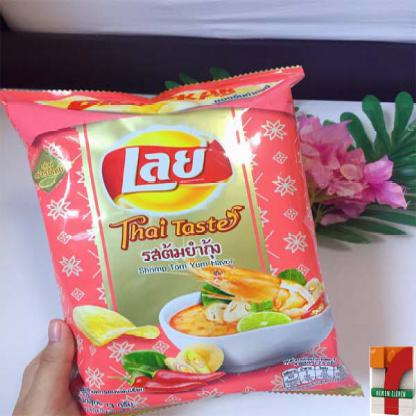potatochip: (0, 55, 369, 415)
